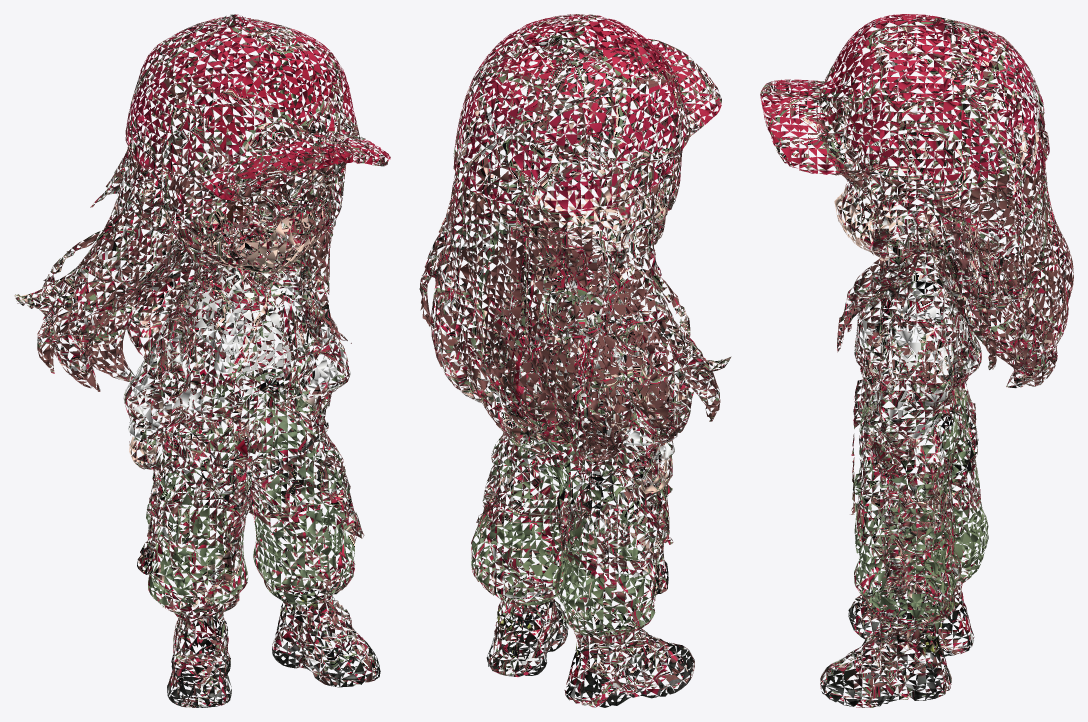
File: chibi-figure.glb
The picture shows the model from 3 angles, left to right: view 1: azimuth 30°, elevation 25°; view 2: azimuth 150°, elevation 25°; view 3: azimuth 270°, elevation 25°; orthographic projection. The views are drawn at different scales.
Visible parts, largest first — view 1: Mesh_0; view 2: Mesh_0; view 3: Mesh_0.
Boxes of the visible parts, x1,y1,x2,y2 form: Mesh_0: (14, 14, 390, 707); Mesh_0: (419, 14, 731, 707); Mesh_0: (760, 14, 1073, 707).
Size of the model in its own units: 0.9543 by 1.9 by 0.8365.
1 material, 1 textured.
